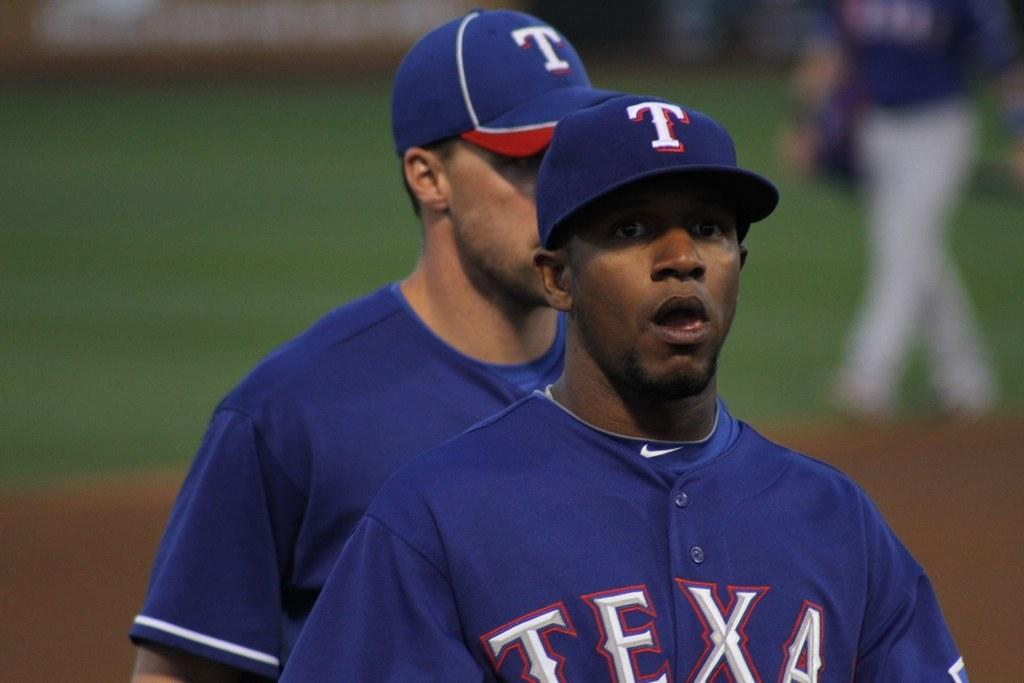Hat: (390, 5, 628, 165), (536, 100, 778, 250)
